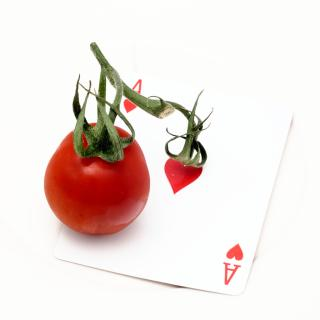tomato: (43, 74, 152, 238)
